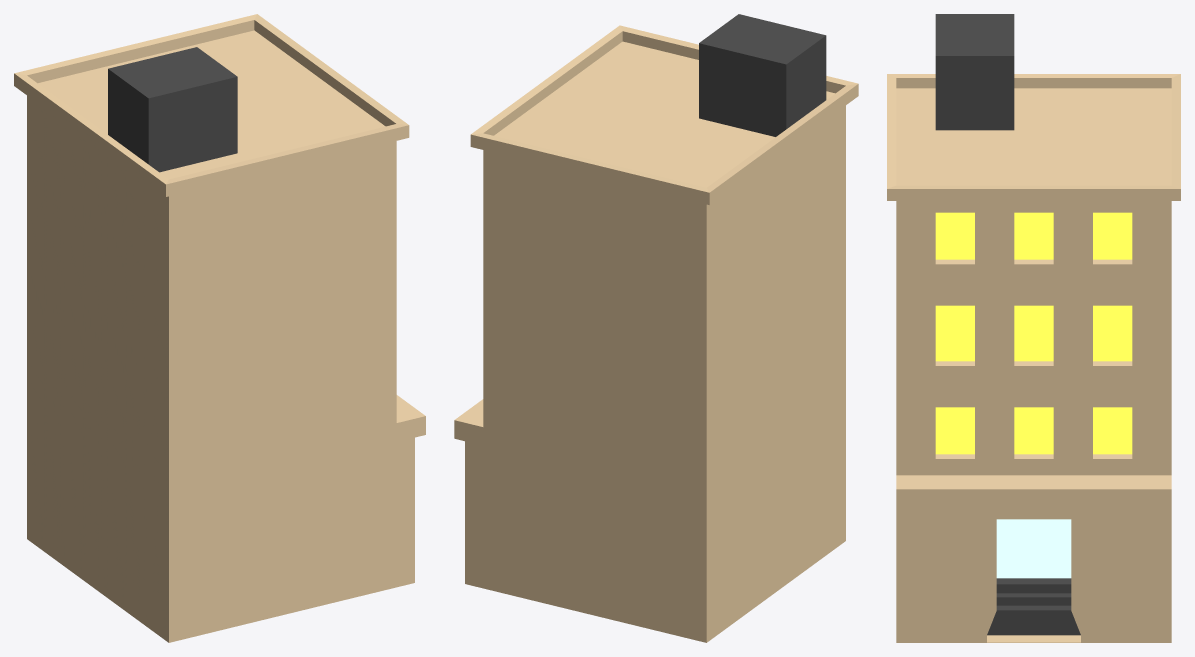
3 views of the same model, side by side, from view 1: azimuth 30°, elevation 25°; view 2: azimuth 150°, elevation 25°; view 3: azimuth 270°, elevation 25° (orthographic). The views are drawn at different scales.
Parts seen in each view (by area): view 1: Cube.032; view 2: Cube.032; view 3: Cube.032.
Part boxes in pixels (box(x1,y1,x2,y2)): Cube.032: box(14, 14, 425, 642); Cube.032: box(454, 14, 858, 642); Cube.032: box(887, 14, 1180, 642).
Size of the model in its own units: 1193 by 2280 by 1185.
